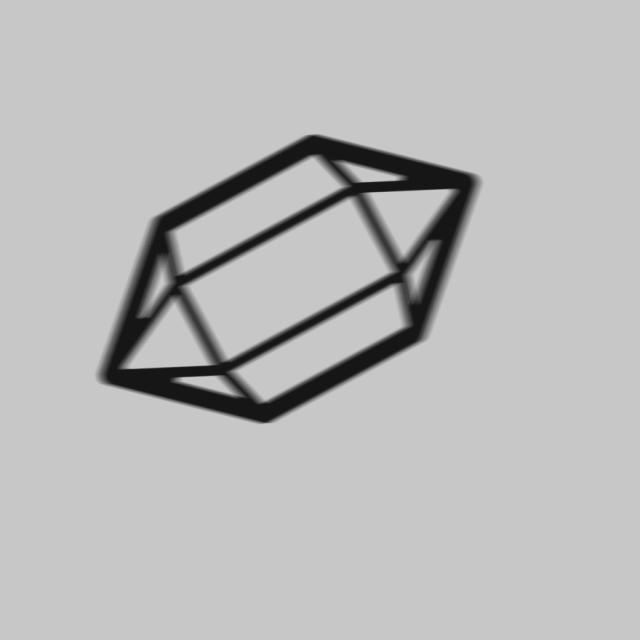crystal: (87, 127, 491, 435)
